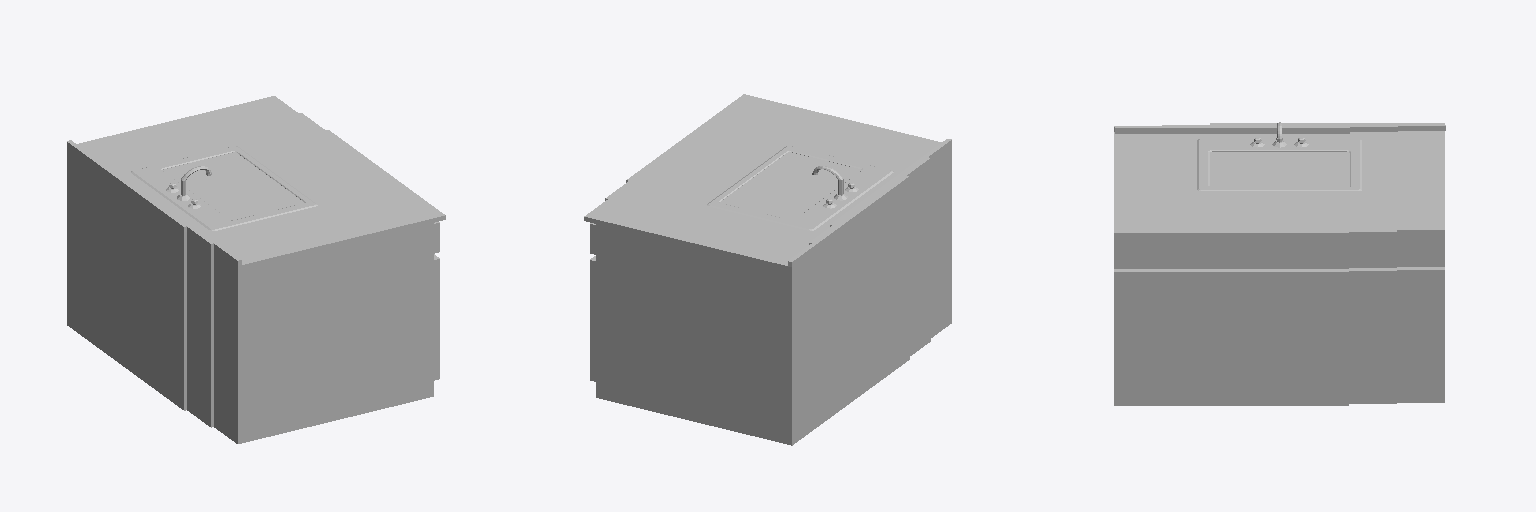
File: left_lavabo.obj
3 views of the same model, side by side, from view 1: azimuth 30°, elevation 25°; view 2: azimuth 150°, elevation 25°; view 3: azimuth 270°, elevation 25° (orthographic).
Visible parts, largest first — view 1: Aparador_Final_Cube.007; view 2: Aparador_Final_Cube.007; view 3: Aparador_Final_Cube.007.
Boxes of the visible parts, <box> form: Aparador_Final_Cube.007: <box>67,96,445,443</box>; Aparador_Final_Cube.007: <box>584,94,951,445</box>; Aparador_Final_Cube.007: <box>1114,122,1445,405</box>.
Size of the model in its own units: 406 by 374 by 545.